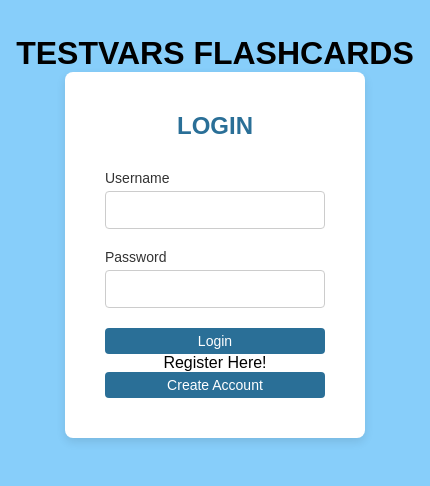
it: Login Flow › should show an error message with invalid credentials
The image size is (430, 486).
// Enter invalid username and password into fields
In the field with id "username": (215, 210) [105,191,325,229], type "wrongUser"
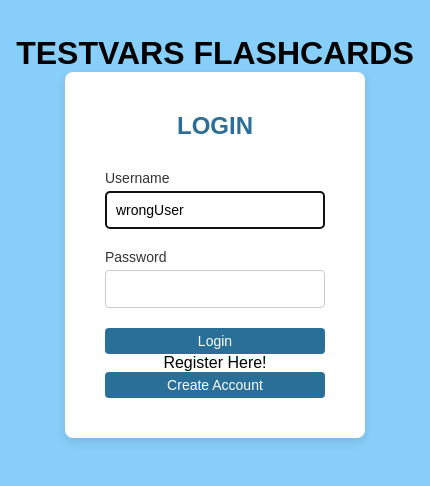
In the password field labelled "Password": (215, 289) [105,270,325,308], type "wrongPassword"
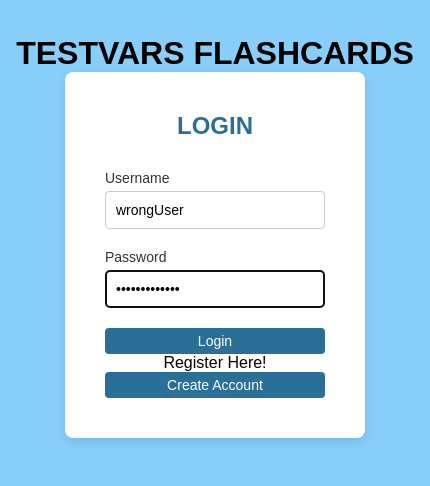
// submit the form
Click the submit button: (215, 341) [105,328,325,354]
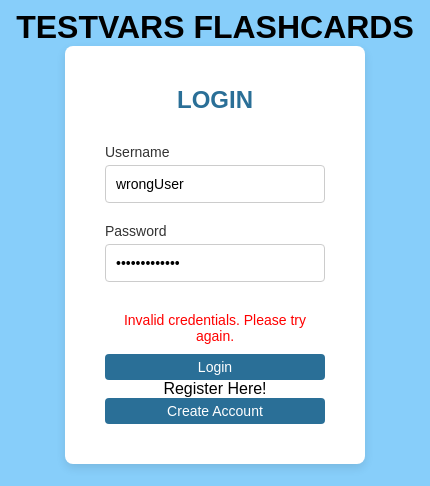
expect the text "Invalid credentials. Please try again." is shown: met, box [124,312,306,344]
